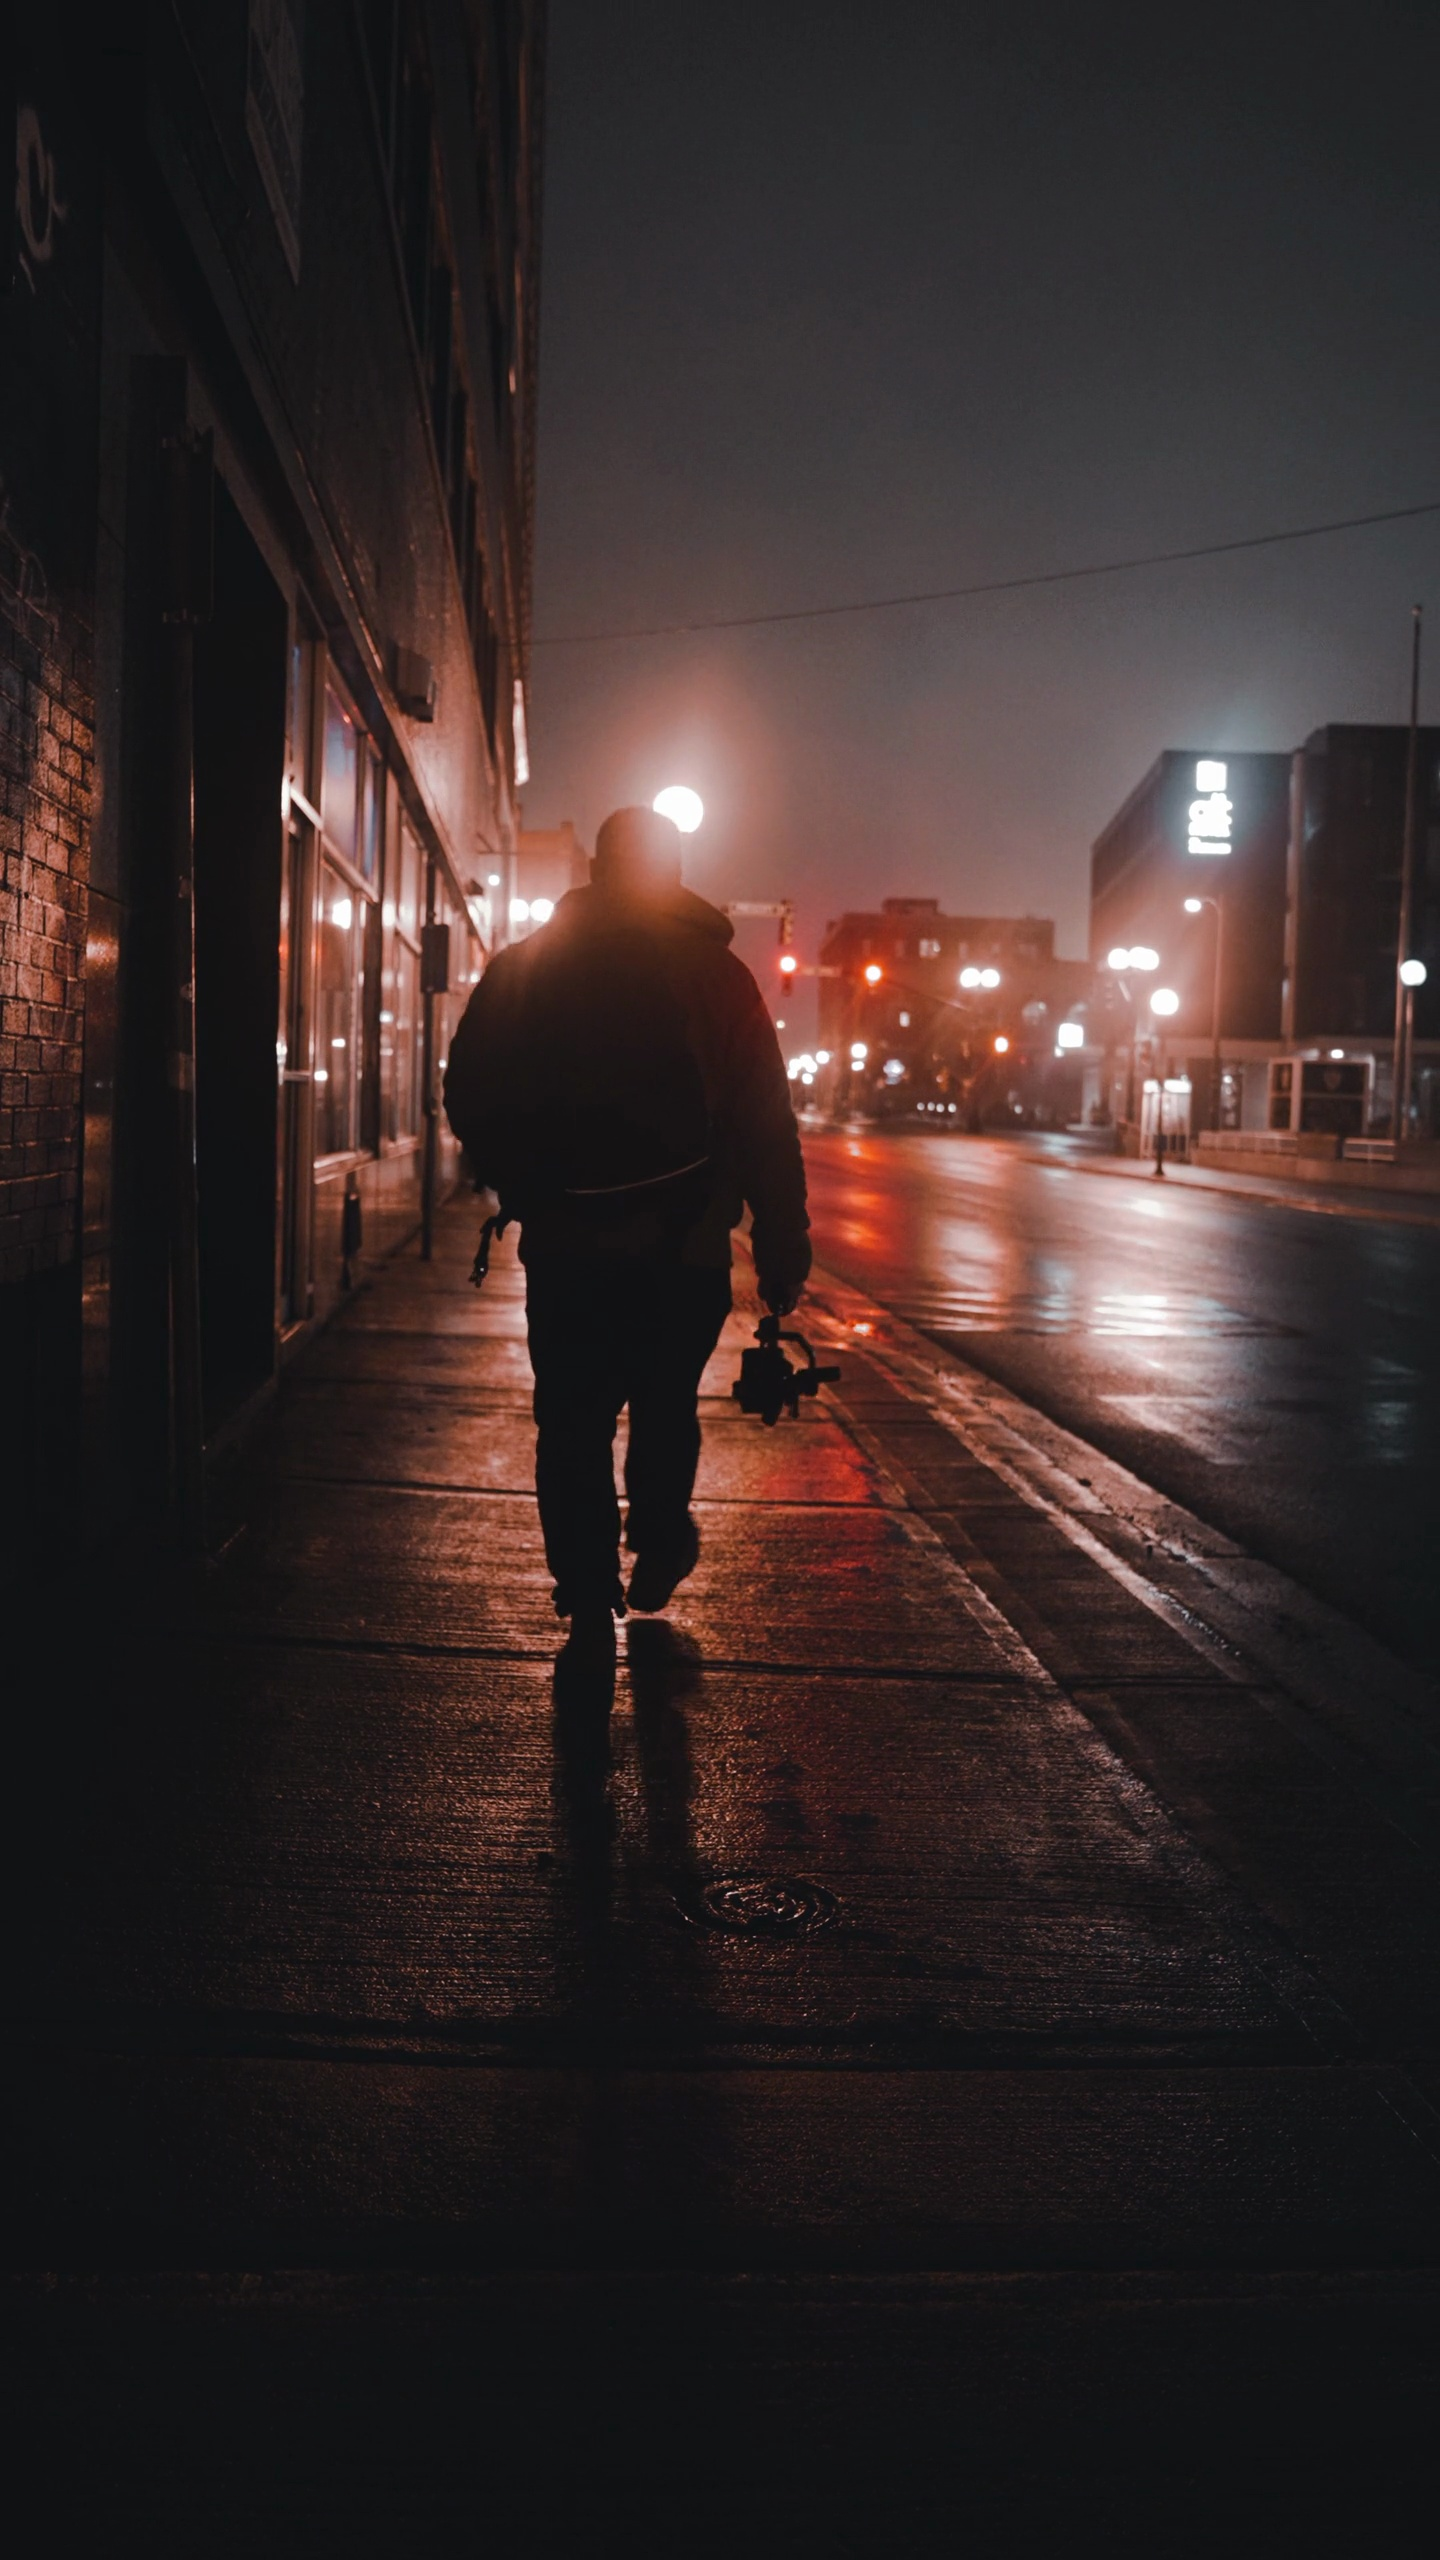person: (431, 790, 820, 1618)
